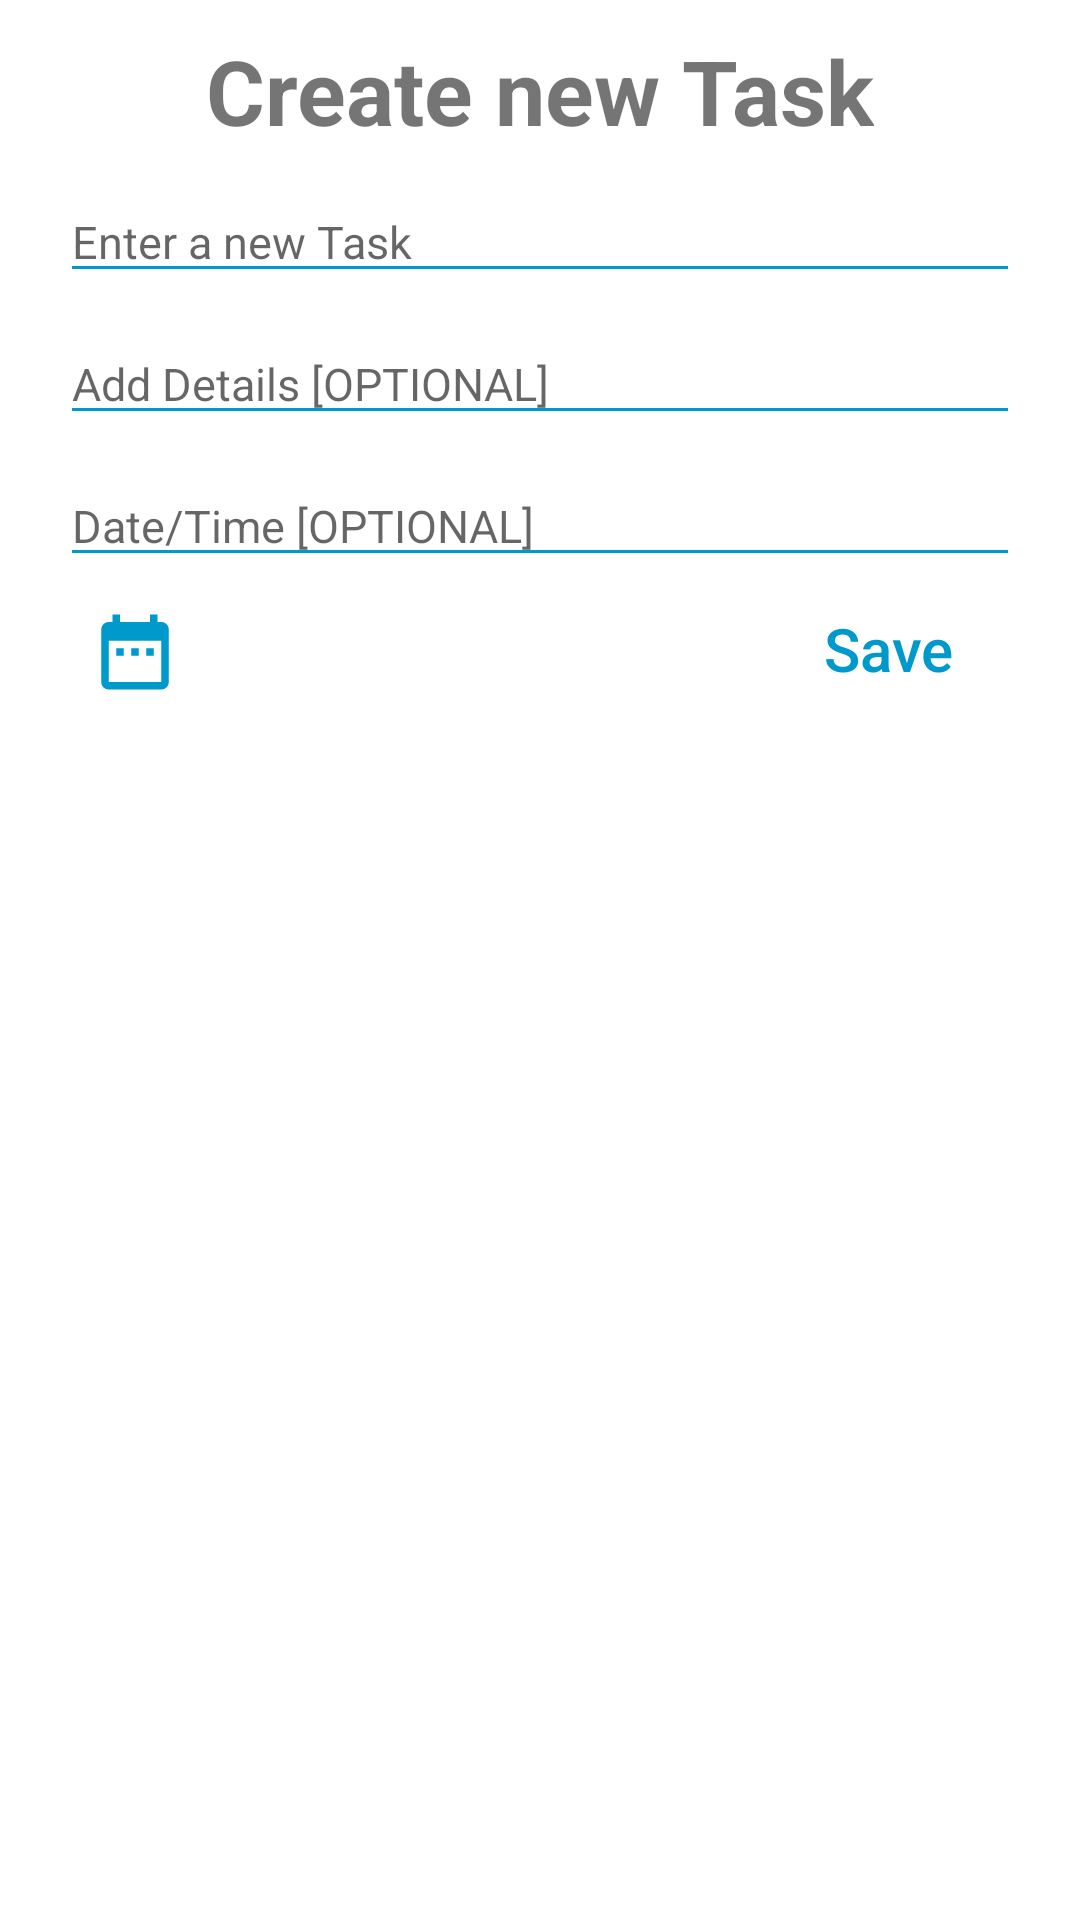

Named icons in this screenshot (1080px×1920px) and their centers, (x,y):
date range: (135,652)
